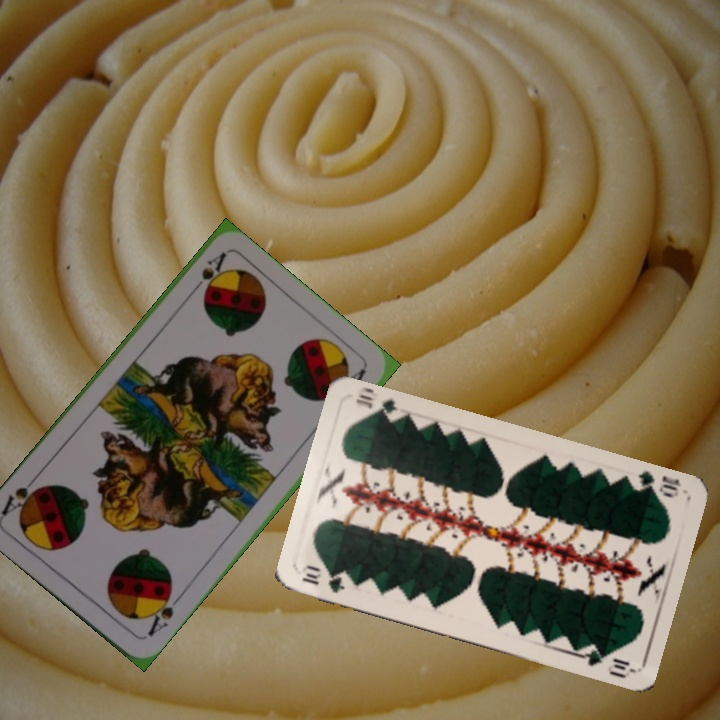G10: (625, 466, 684, 501), (297, 563, 347, 596)
SA: (143, 585, 184, 640), (185, 248, 229, 299)
